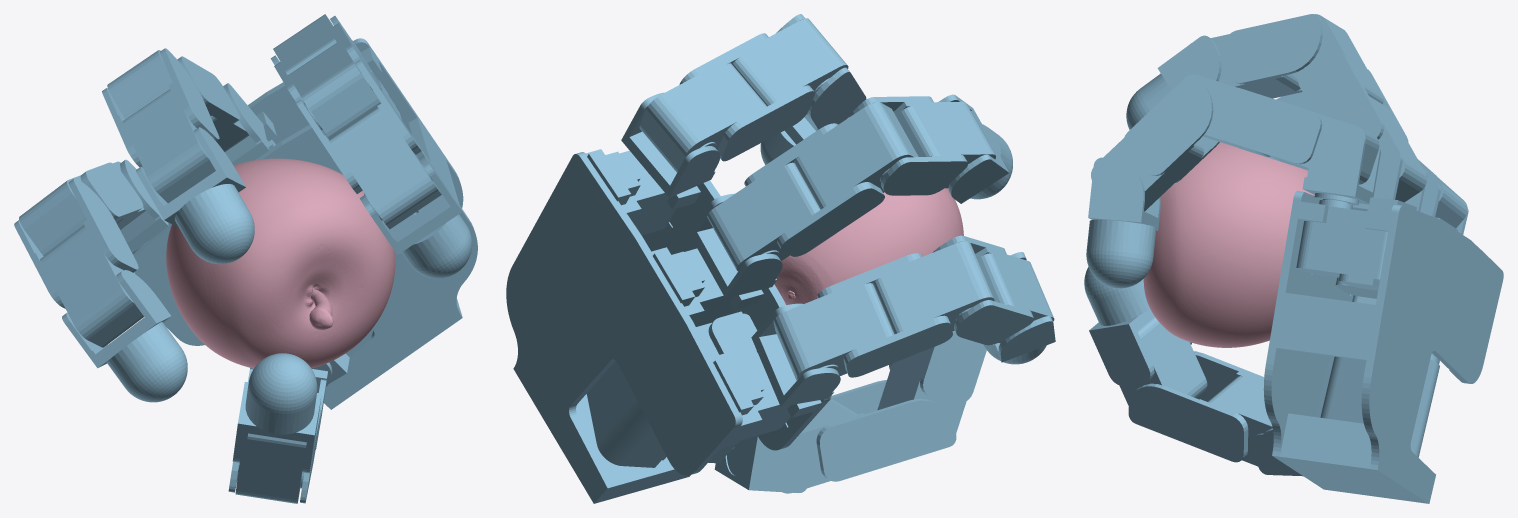
3 views of the same model, side by side, from view 1: azimuth 30°, elevation 25°; view 2: azimuth 150°, elevation 25°; view 3: azimuth 270°, elevation 25° (orthographic). The views are drawn at different scales.
Visible parts, largest first — view 1: world, apple.stl; view 2: world, apple.stl; view 3: world, apple.stl.
Boxes of the visible parts, box(x1,y1,x2,y2) form: world: box(14, 14, 477, 503); apple.stl: box(166, 158, 395, 368); world: box(506, 14, 1055, 503); apple.stl: box(774, 188, 963, 304); world: box(1084, 14, 1503, 503); apple.stl: box(1143, 142, 1314, 347).
Size of the model in its own units: 0.1861 by 0.159 by 0.1499.
